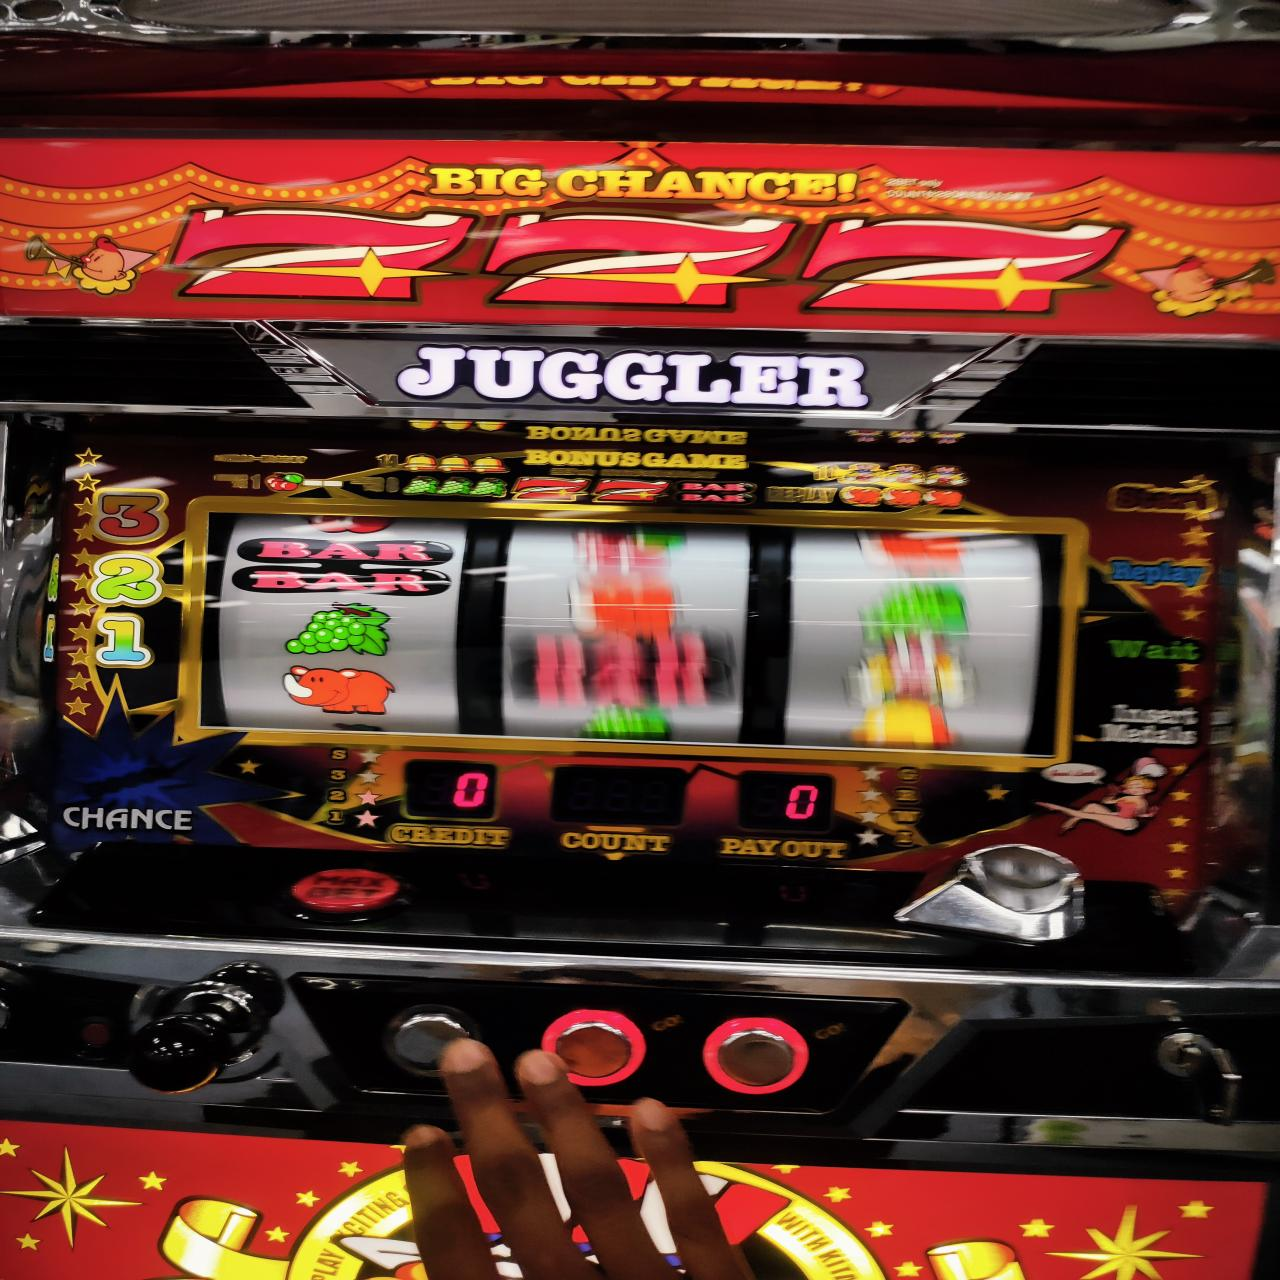8: (278, 663, 396, 716)
bar: (226, 535, 454, 598)
grape: (284, 601, 393, 659)
rhino: (199, 505, 1057, 761)
